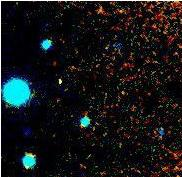star: (45, 68, 75, 98)
